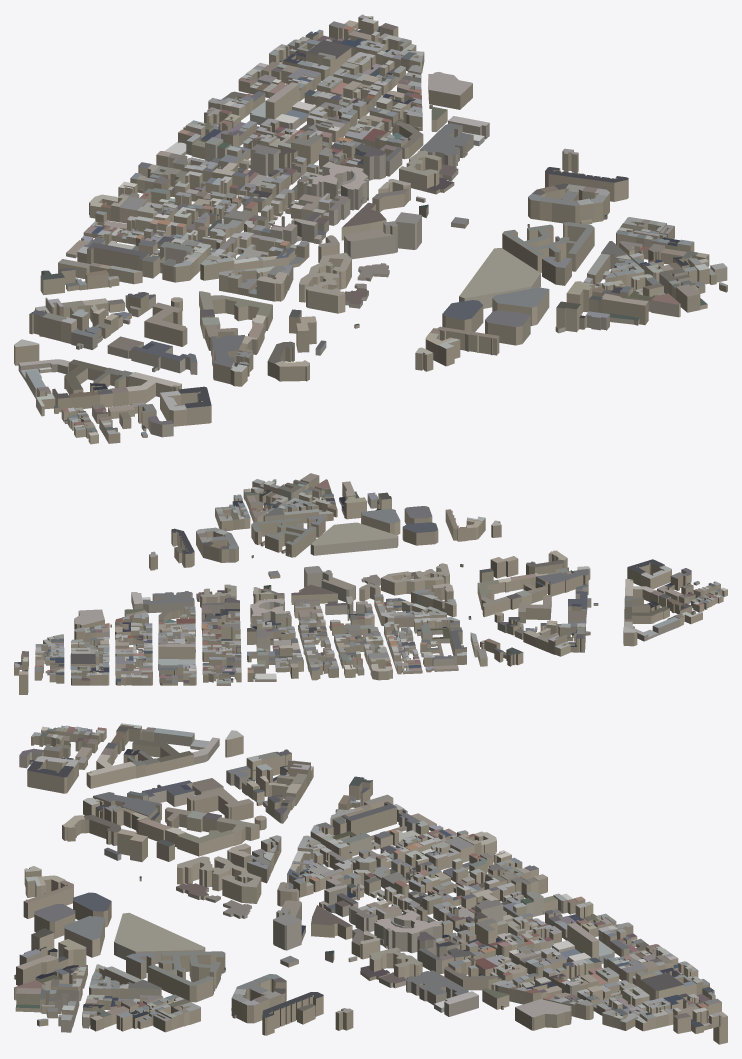
3 views of the same model, one above another, from view 1: azimuth 30°, elevation 25°; view 2: azimuth 150°, elevation 25°; view 3: azimuth 270°, elevation 25° (orthographic). The views are drawn at different scales.
Parts seen in each view (by area): view 1: tuile; view 2: tuile; view 3: tuile.
Boxes of the visible parts, x1=… form: tuile: x1=14, y1=14, x2=727, y2=444; tuile: x1=14, y1=473, x2=727, y2=694; tuile: x1=14, y1=723, x2=727, y2=1044.
Size of the model in its own units: 1033 by 70.6 by 1025.
